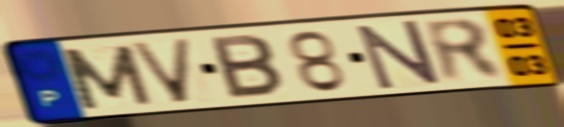8: (285, 28, 348, 93)
B: (207, 32, 287, 102)
M: (56, 42, 158, 112)
N: (353, 17, 445, 93)
R: (418, 16, 511, 86)
V: (125, 36, 196, 106)
